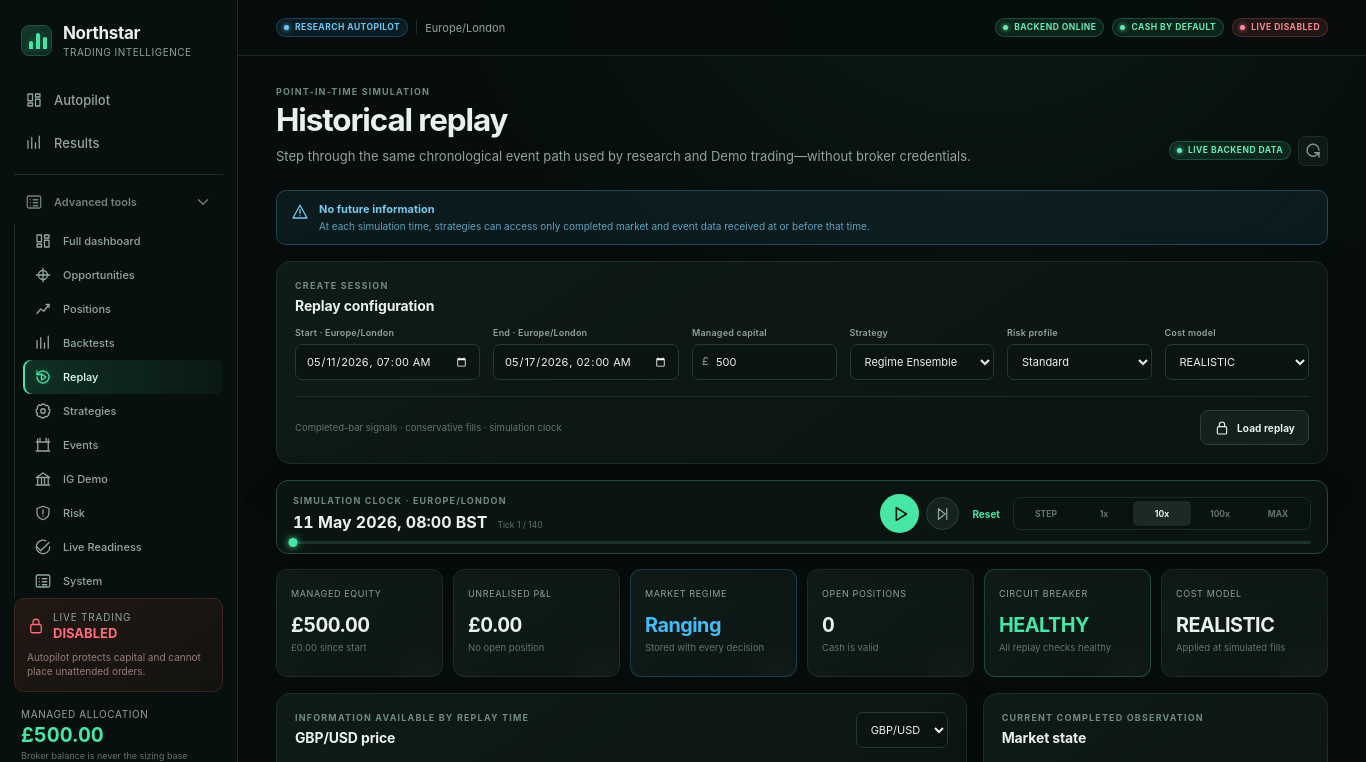
trading dashboard › submits London replay times as UTC and adopts the returned session
Expected: the text "Live backend data" is shown, [1169,142,1291,160]
Click the button "Load replay" at (1255, 428), box [1200,410,1309,445]
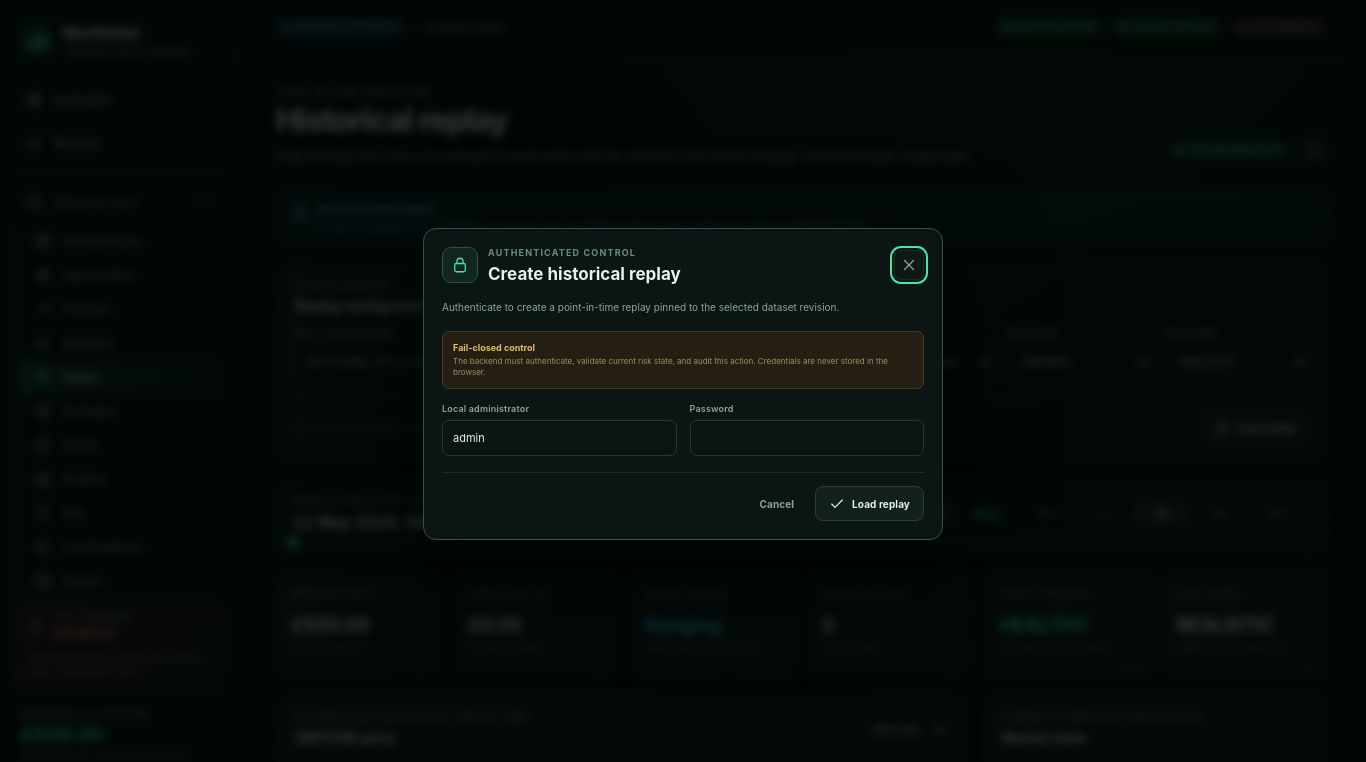
Type "correct" into the password field labelled "Password" at (807, 438), box [690,420,924,456]
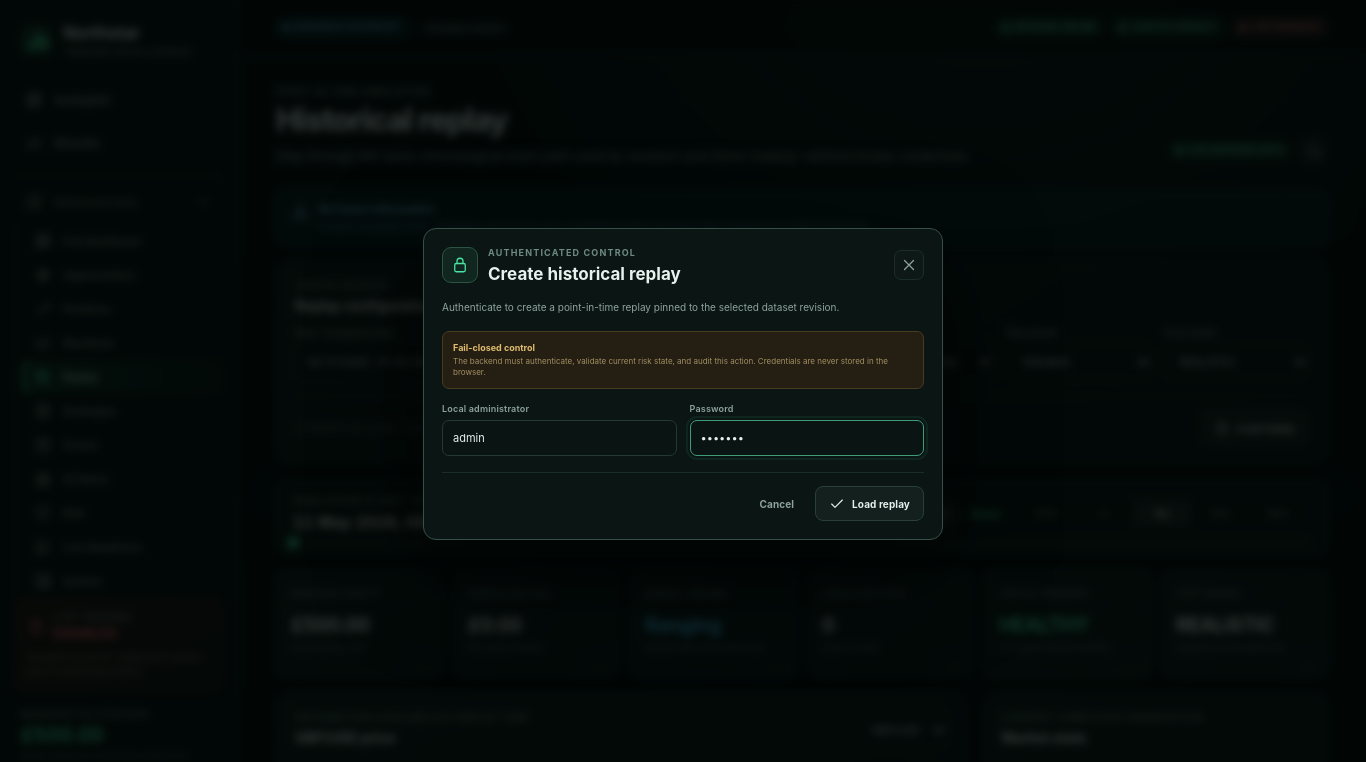
Click the button "Load replay" below "Password" at (870, 504), box [815,486,924,521]
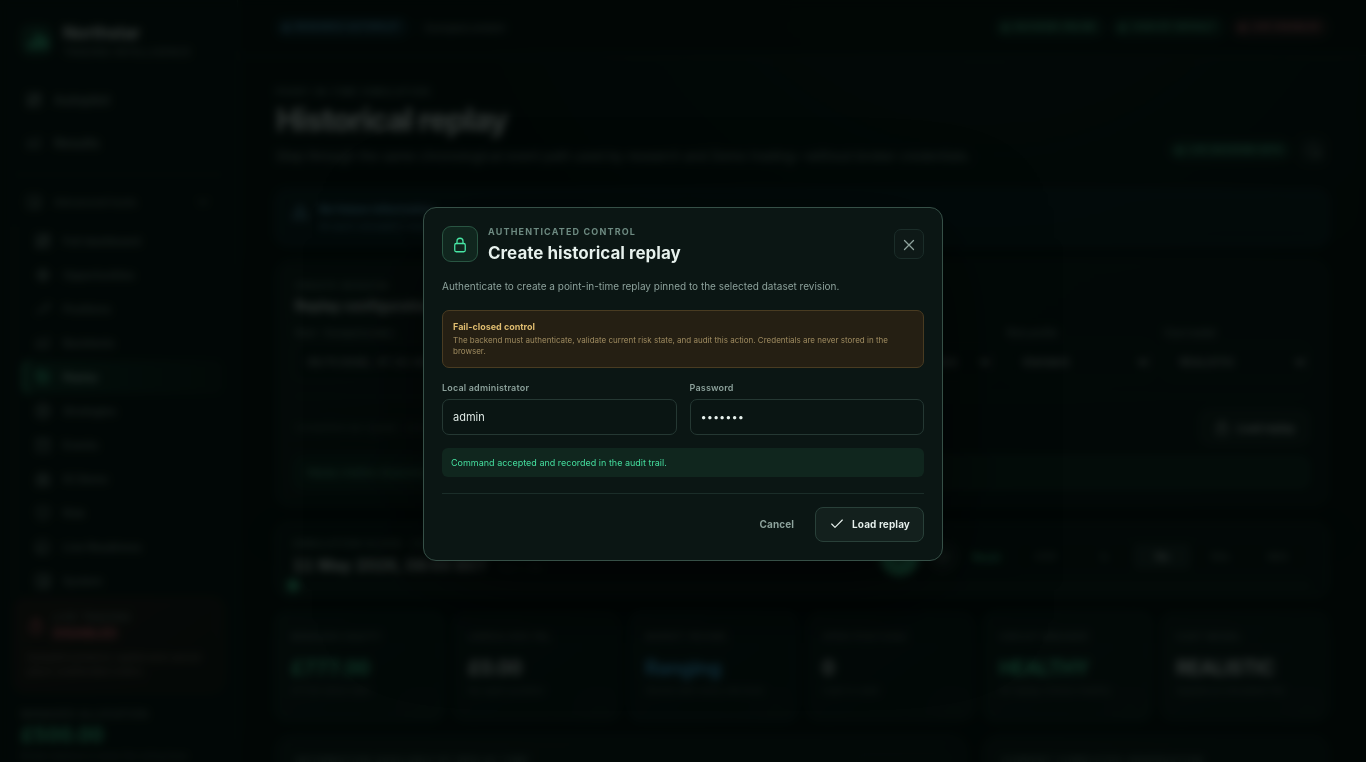
Expected: the text "displaying the exact session returned by the backend" is shown, [307,467,732,478]
Expected: the message "Command accepted and recorded in the audit trail." is shown, [442,448,924,477]
